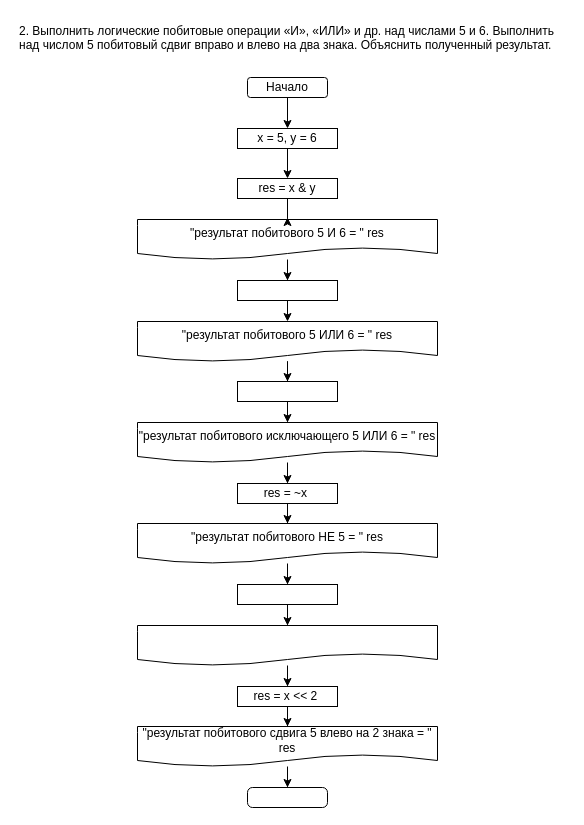
Some shapes in this 584 by 825 pixel diagram are drawn without their labels. The centre of each missing label's shape, as x and y in pixels:
"результат побитового сдвига 5 вправо на 2 знака = " res: point (287, 645)
res = x >> 2: point (287, 594)
res = x ^ y: point (287, 391)
res = x | y: point (287, 290)
Конец: point (287, 797)
